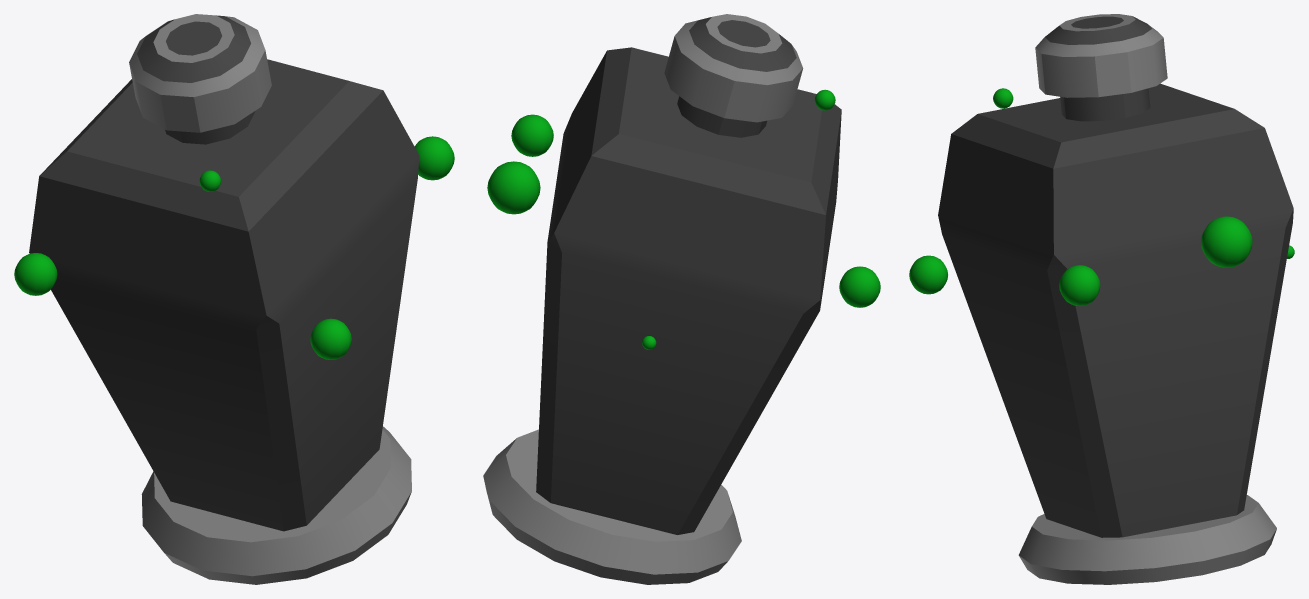
Rendered from Vial.fbx.
3 renders of one model, left to right at view 1: azimuth 30°, elevation 25°; view 2: azimuth 150°, elevation 25°; view 3: azimuth 270°, elevation 25°, orthographic. The views are drawn at different scales.
Visible parts, largest first — view 1: Glass, ActualGeometry; view 2: Glass, ActualGeometry; view 3: Glass, ActualGeometry.
Boxes of the visible parts, box(x1,y1,x2,y2) form: Glass: box(29, 59, 419, 531); ActualGeometry: box(14, 14, 454, 584); Glass: box(536, 47, 841, 534); ActualGeometry: box(483, 14, 880, 584); Glass: box(938, 83, 1293, 537); ActualGeometry: box(909, 14, 1294, 584).
Size of the model in its own units: 326 by 424 by 286.
